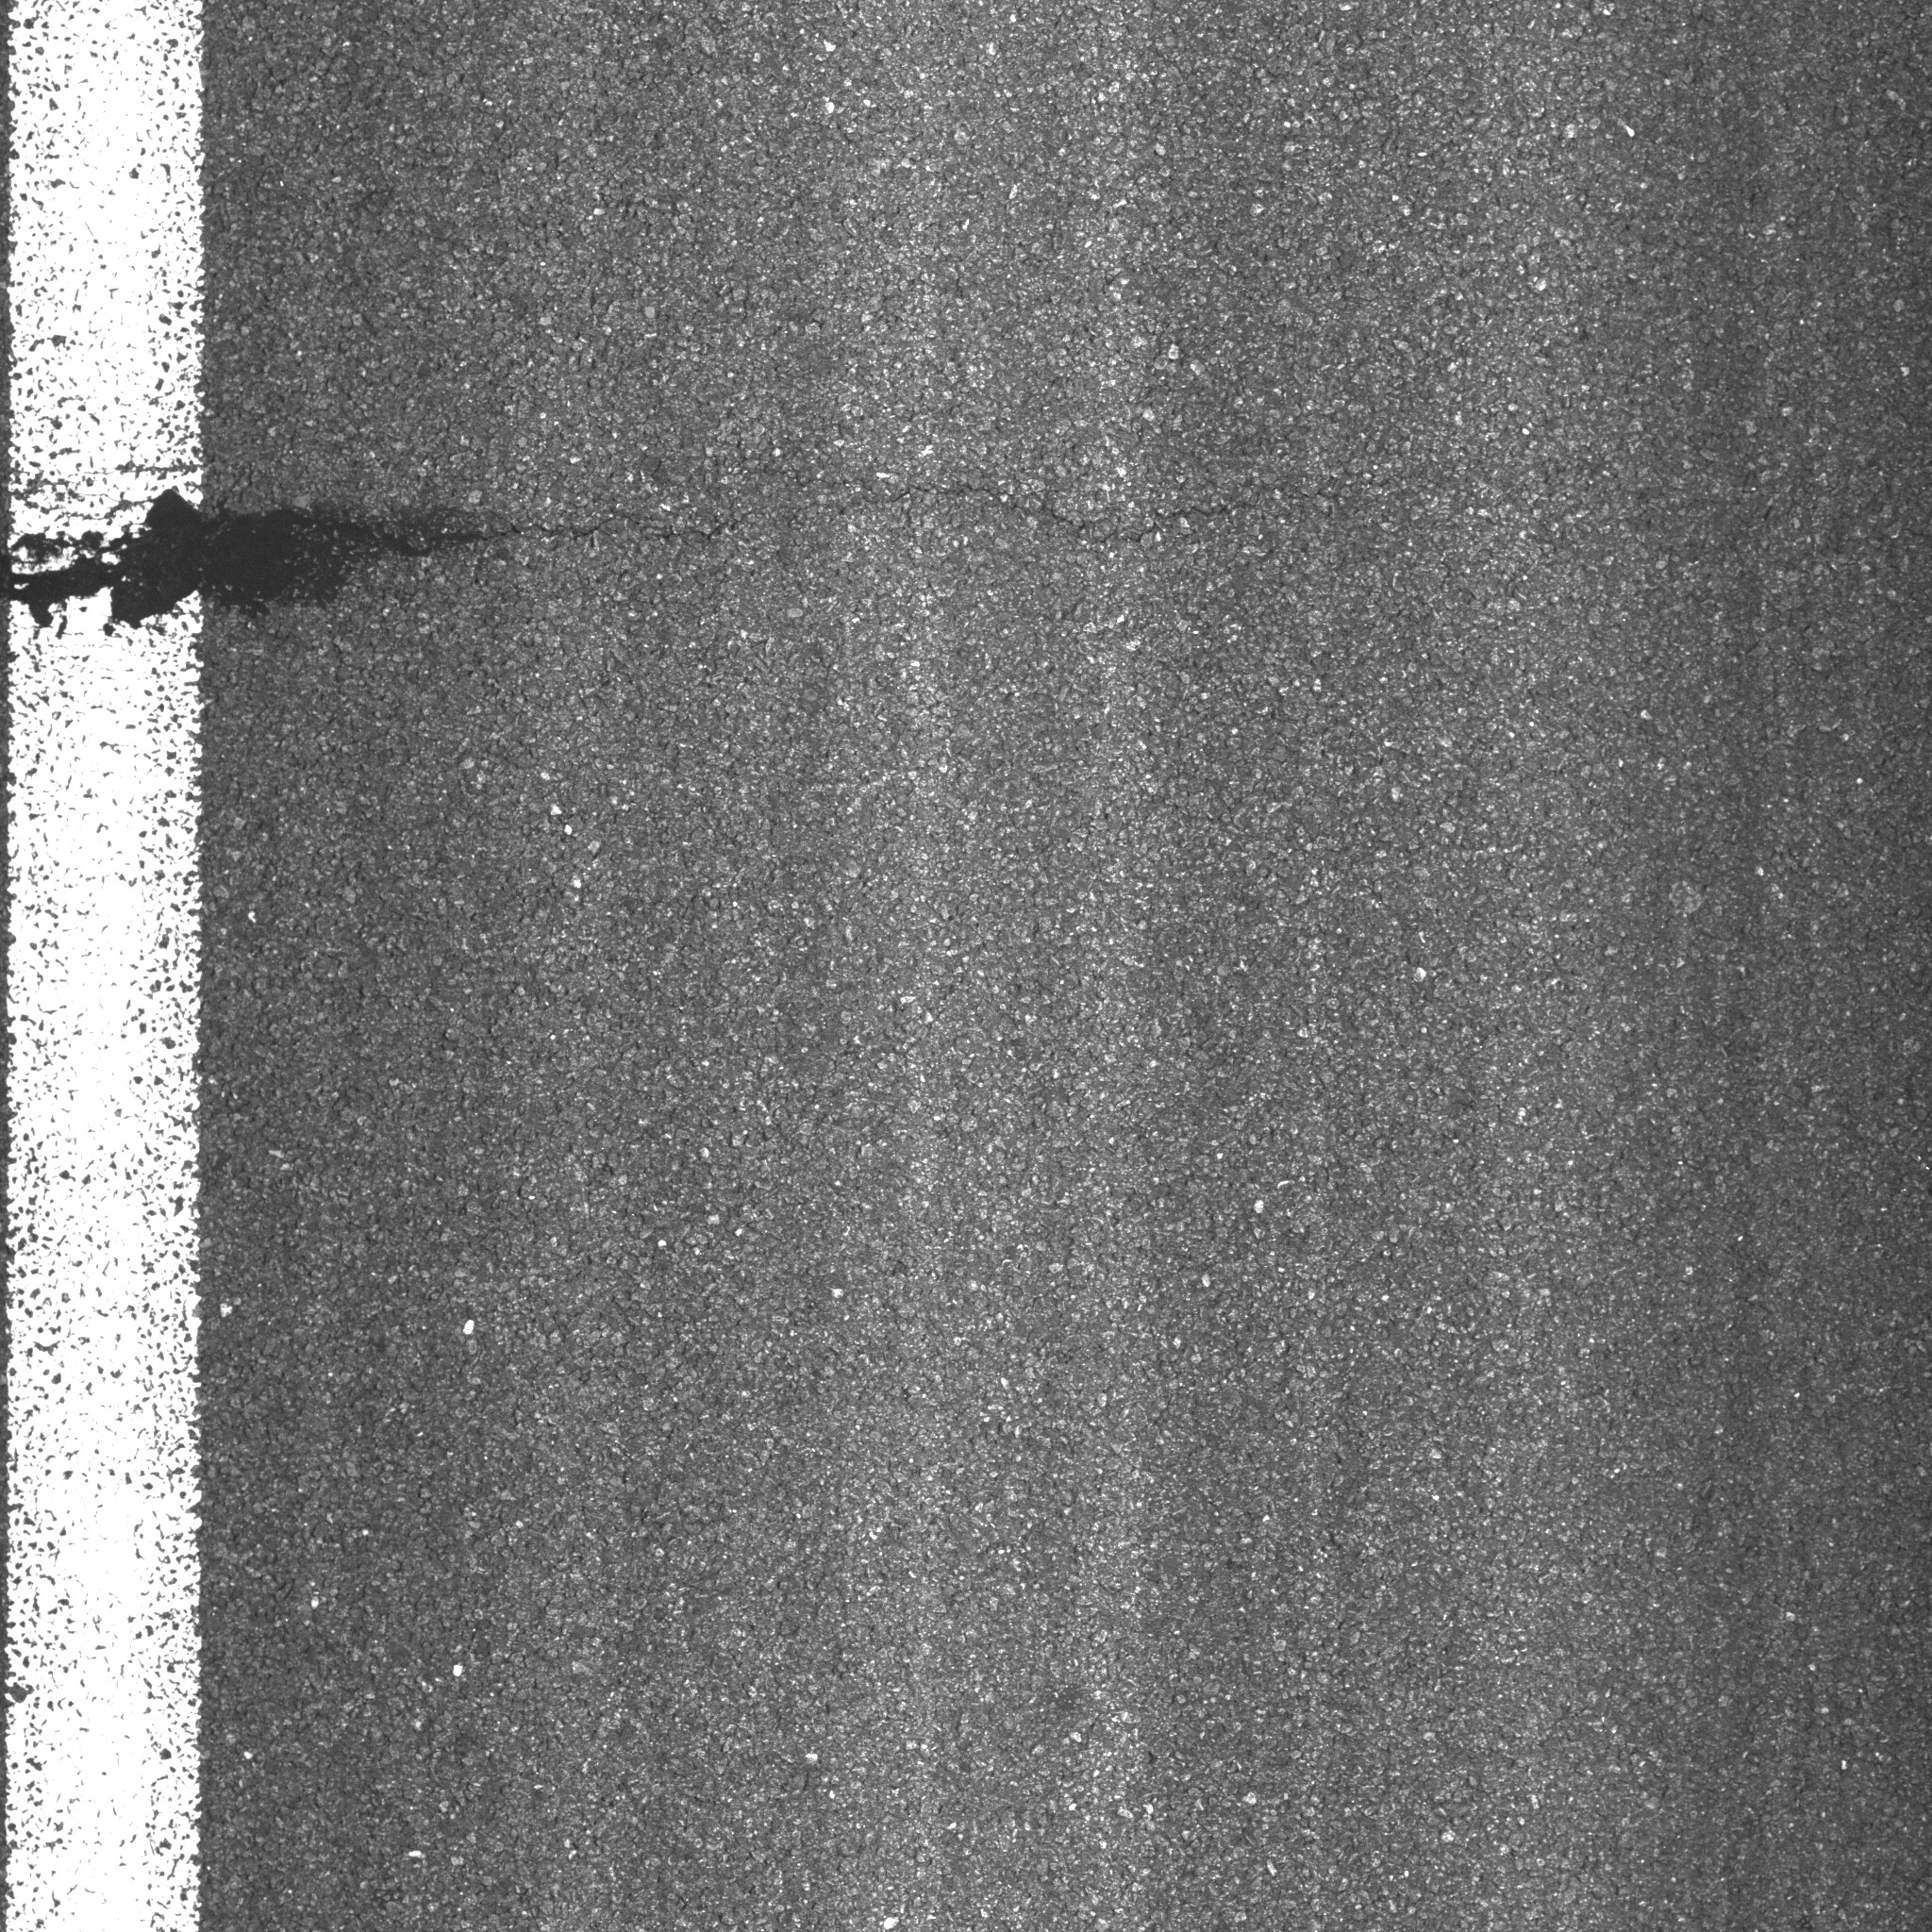transverse: (21, 444, 1283, 642)
